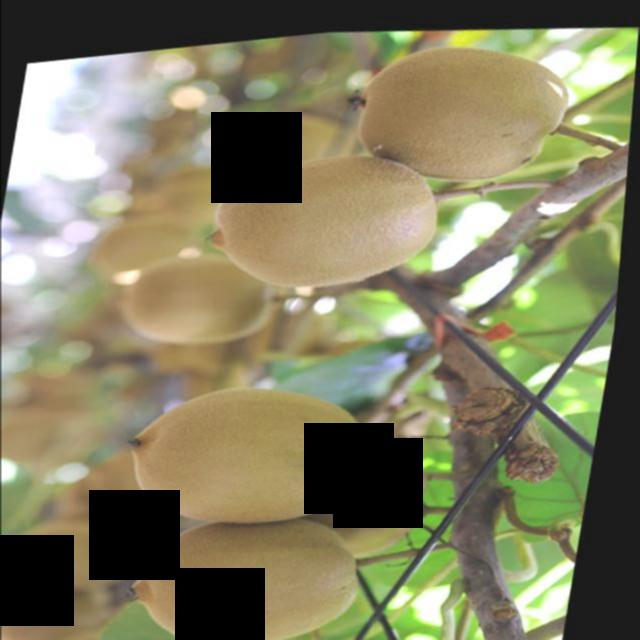kiwi: (122, 355, 384, 534), (203, 130, 454, 301), (346, 25, 585, 196), (129, 491, 382, 640), (256, 423, 450, 565), (117, 234, 284, 347)
